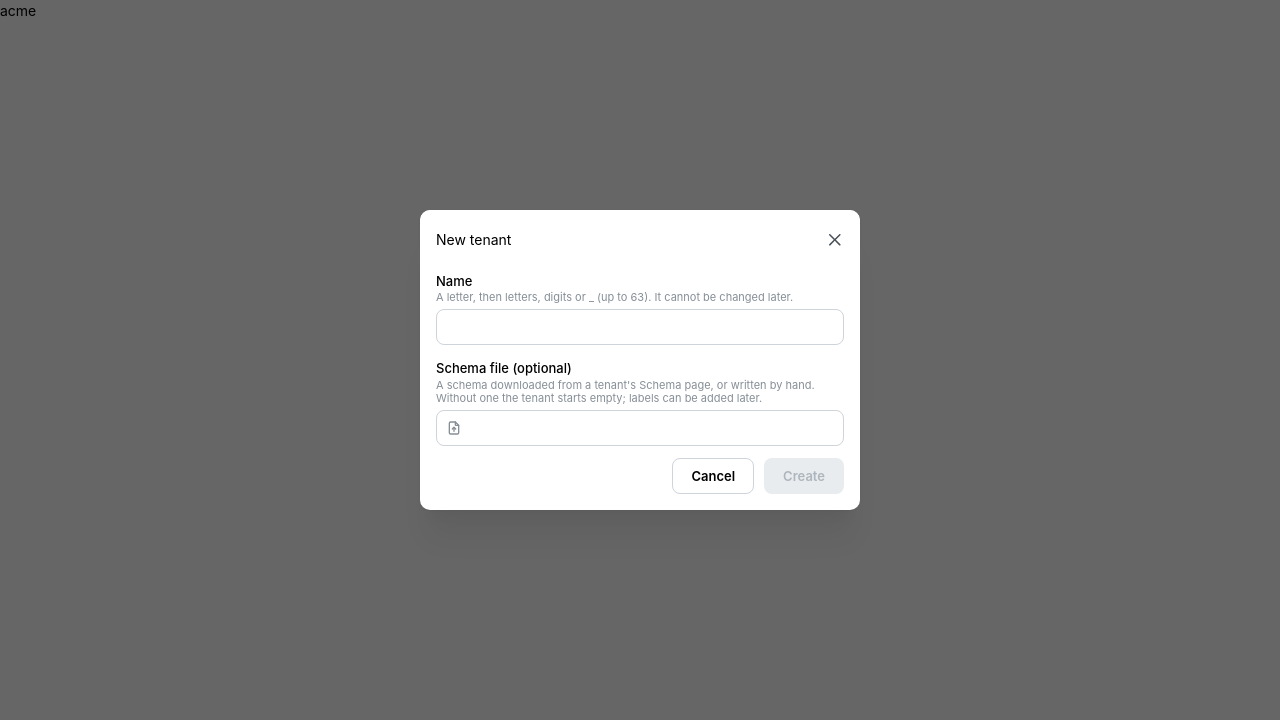
a new tenant › refuses a name that is taken, or kept by an unregistered tenant, before writing anything
Type "team_old2" into the field labelled "Name". click: [640, 327]
box: x1=436 y1=309 x2=844 y2=345
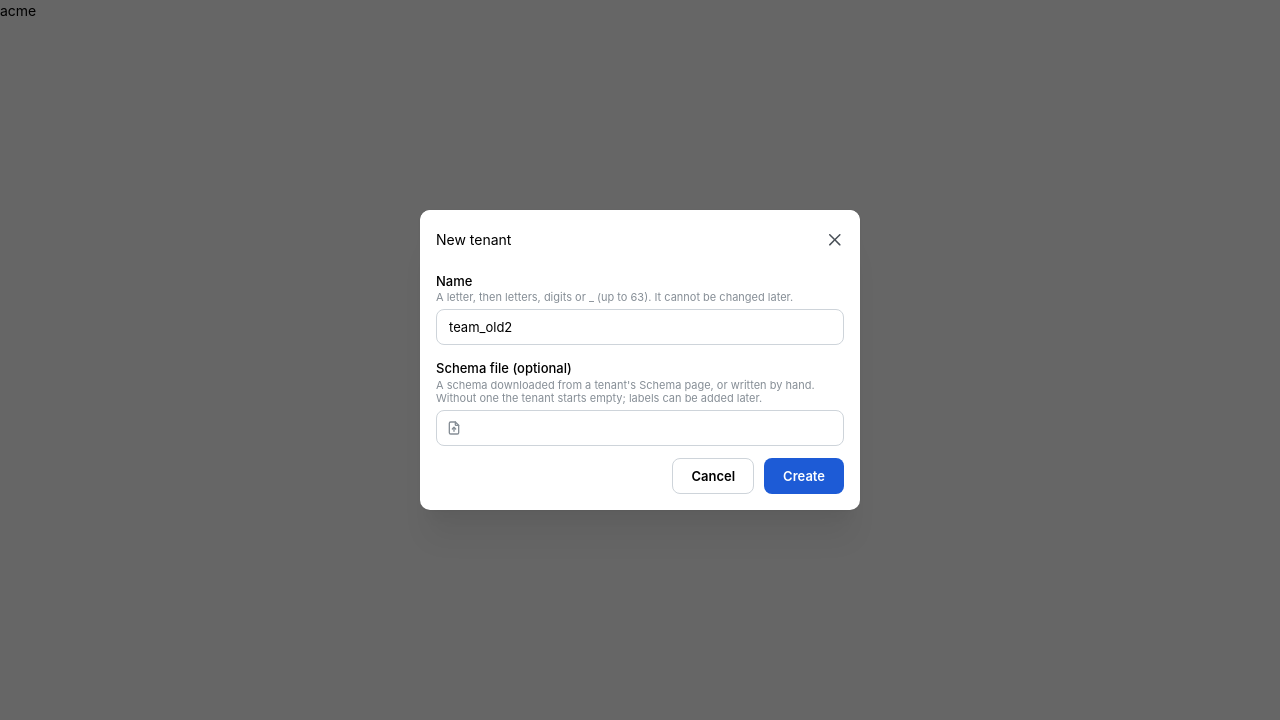
Click the button "Create". click: [804, 476]
box: x1=764 y1=458 x2=844 y2=494
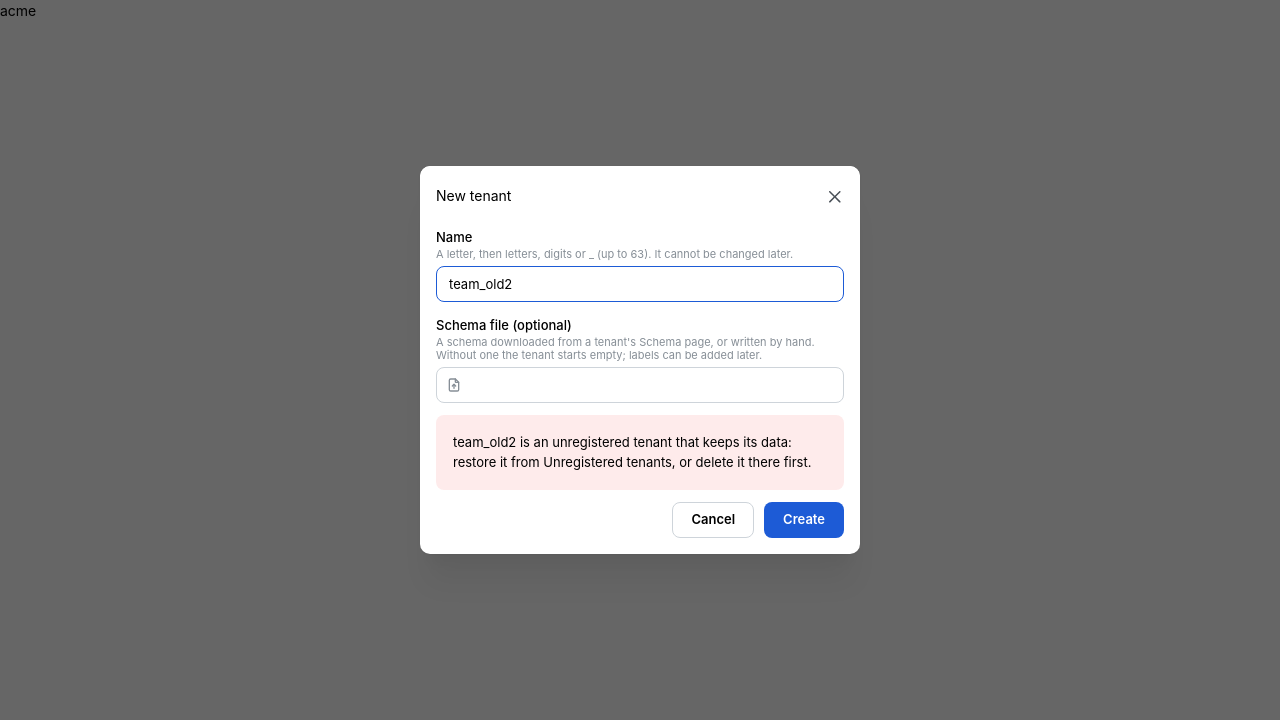
Result: the text "is an unregistered tenant that keeps its data" is shown at x1=453 y1=434 x2=812 y2=470
